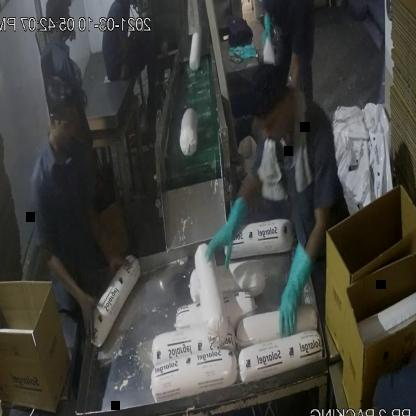glove: (192, 187, 254, 281), (268, 240, 325, 330)
no_glove: (34, 246, 106, 349)
